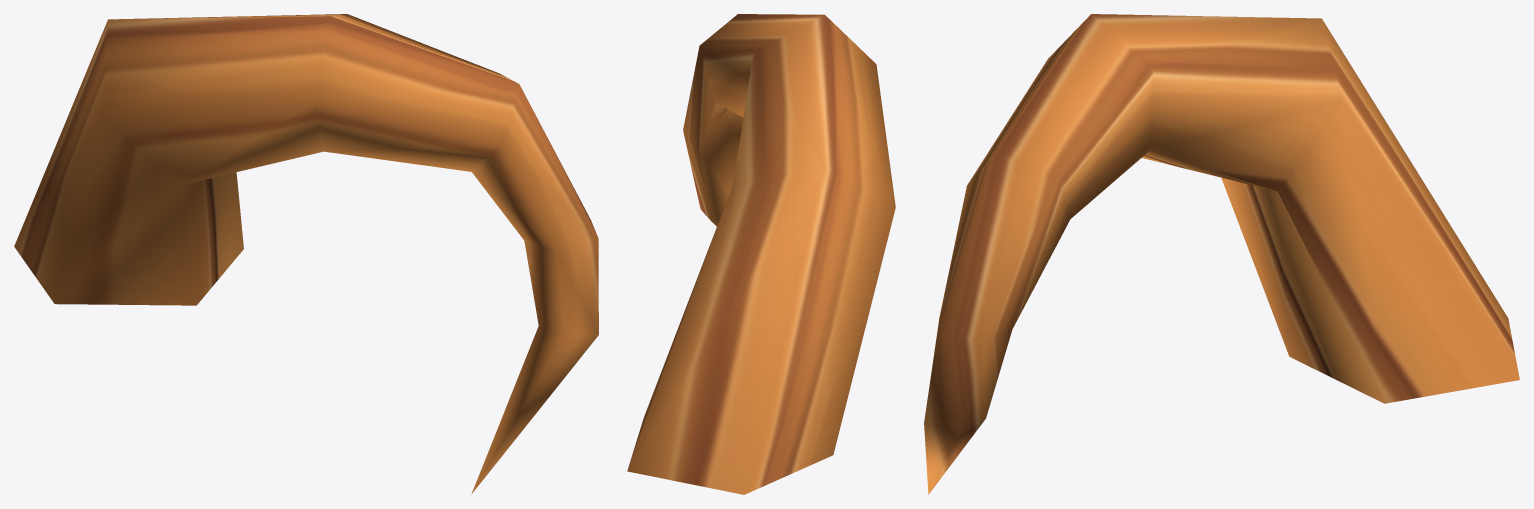
Rendered from SM_ENV_TREE_root_01.fbx.
3 renders of one model, left to right at view 1: azimuth 30°, elevation 25°; view 2: azimuth 150°, elevation 25°; view 3: azimuth 270°, elevation 25°, orthographic. The views are drawn at different scales.
Visible parts, largest first — view 1: SM_ENV_TREE_root_01; view 2: SM_ENV_TREE_root_01; view 3: SM_ENV_TREE_root_01.
Boxes of the visible parts, <box> form: SM_ENV_TREE_root_01: <box>14,14,598,494</box>; SM_ENV_TREE_root_01: <box>627,14,895,494</box>; SM_ENV_TREE_root_01: <box>924,14,1519,494</box>.
Bounding box in the file's own units: 82.4 × 95.33 × 114.
